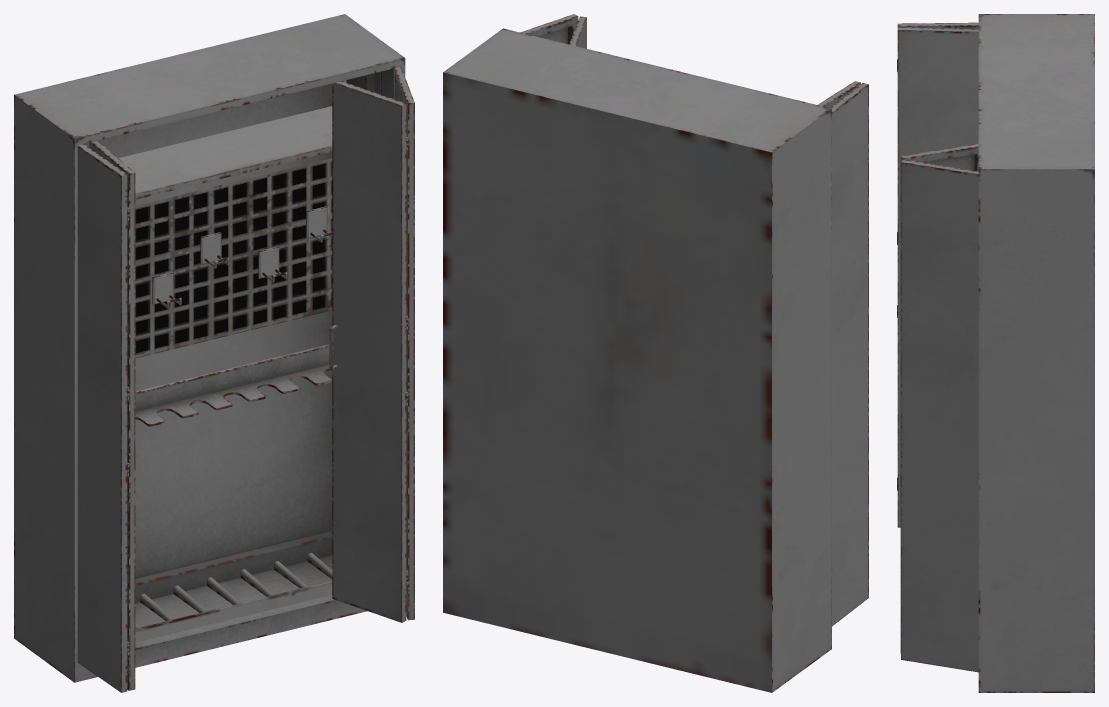
The model's file is 011_WeaponLocker.fbx.
The picture shows the model from 3 angles, left to right: view 1: azimuth 30°, elevation 25°; view 2: azimuth 150°, elevation 25°; view 3: azimuth 270°, elevation 25°; orthographic projection. The views are drawn at different scales.
Parts seen in each view (by area): view 1: LOD_1_Group_1_Sub_1__sm30_011_WeaponLocker02A_Mat, LOD_1_Group_0_Sub_1__sm30_011_WeaponLocker02A_Mat, LOD_1_Group_4_Sub_1__sm30_011_WeaponLocker02A_Mat, LOD_1_Group_11_Sub_1__sm30_011_WeaponLocker02A_Mat, LOD_1_Group_12_Sub_1__sm30_011_WeaponLocker02A_Mat, LOD_1_Group_2_Sub_1__sm30_011_WeaponLocker02A_Mat; view 2: LOD_1_Group_1_Sub_1__sm30_011_WeaponLocker02A_Mat, LOD_1_Group_0_Sub_1__sm30_011_WeaponLocker02A_Mat; view 3: LOD_1_Group_1_Sub_1__sm30_011_WeaponLocker02A_Mat, LOD_1_Group_0_Sub_1__sm30_011_WeaponLocker02A_Mat.
Part boxes in pixels (x1=…): LOD_1_Group_1_Sub_1__sm30_011_WeaponLocker02A_Mat: x1=14, y1=14, x2=414, y2=692; LOD_1_Group_0_Sub_1__sm30_011_WeaponLocker02A_Mat: x1=89, y1=81, x2=406, y2=690; LOD_1_Group_4_Sub_1__sm30_011_WeaponLocker02A_Mat: x1=118, y1=80, x2=391, y2=612; LOD_1_Group_11_Sub_1__sm30_011_WeaponLocker02A_Mat: x1=135, y1=344, x2=332, y2=426; LOD_1_Group_12_Sub_1__sm30_011_WeaponLocker02A_Mat: x1=135, y1=531, x2=332, y2=603; LOD_1_Group_2_Sub_1__sm30_011_WeaponLocker02A_Mat: x1=127, y1=207, x2=332, y2=649; LOD_1_Group_1_Sub_1__sm30_011_WeaponLocker02A_Mat: x1=443, y1=14, x2=868, y2=692; LOD_1_Group_0_Sub_1__sm30_011_WeaponLocker02A_Mat: x1=569, y1=16, x2=860, y2=107; LOD_1_Group_1_Sub_1__sm30_011_WeaponLocker02A_Mat: x1=897, y1=14, x2=1094, y2=692; LOD_1_Group_0_Sub_1__sm30_011_WeaponLocker02A_Mat: x1=897, y1=27, x2=978, y2=653.
Bounding box in the file's own units: 1.32 × 2.08 × 0.7119.
